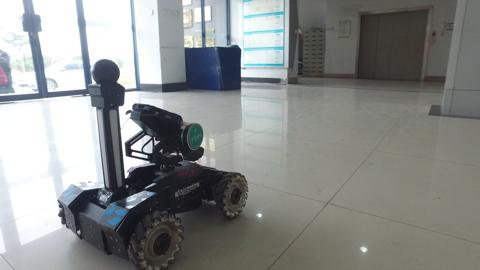chariot: (36, 58, 263, 270)
